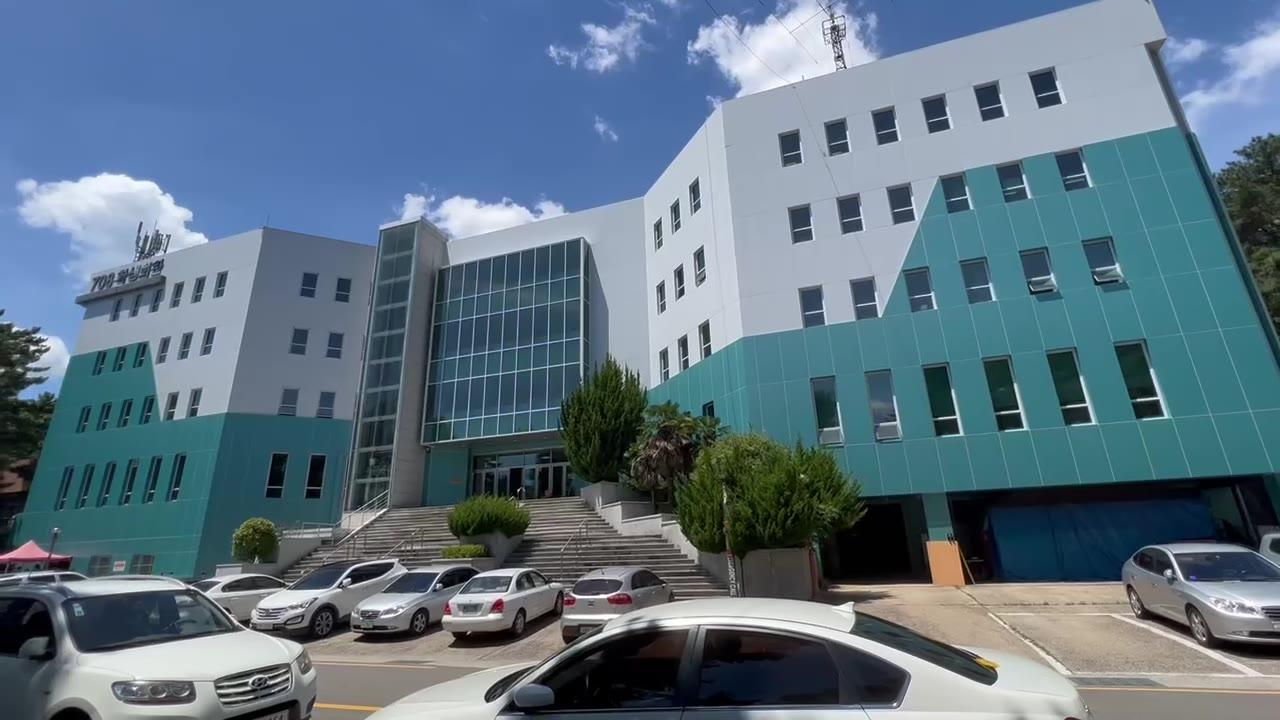building: (109, 44, 1280, 483)
